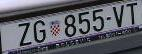-: (106, 16, 112, 21)
5: (92, 9, 105, 32), (78, 12, 90, 34)
8: (65, 14, 76, 37)
G: (34, 20, 46, 43)
T: (126, 2, 138, 25)
V: (113, 5, 125, 28)
Z: (18, 23, 32, 45)
